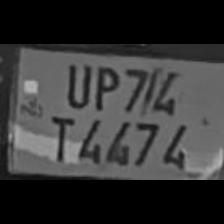4: (144, 66, 180, 114), (158, 116, 188, 169), (102, 114, 132, 166), (74, 114, 104, 164)
7: (118, 64, 150, 112), (128, 116, 158, 166)
P: (89, 62, 119, 112)
T: (46, 112, 74, 162)
U: (60, 58, 92, 108)
